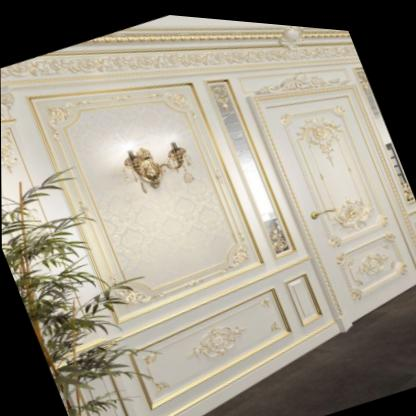Futec frame: (29, 73, 268, 326), (238, 63, 416, 312), (124, 260, 333, 414)
